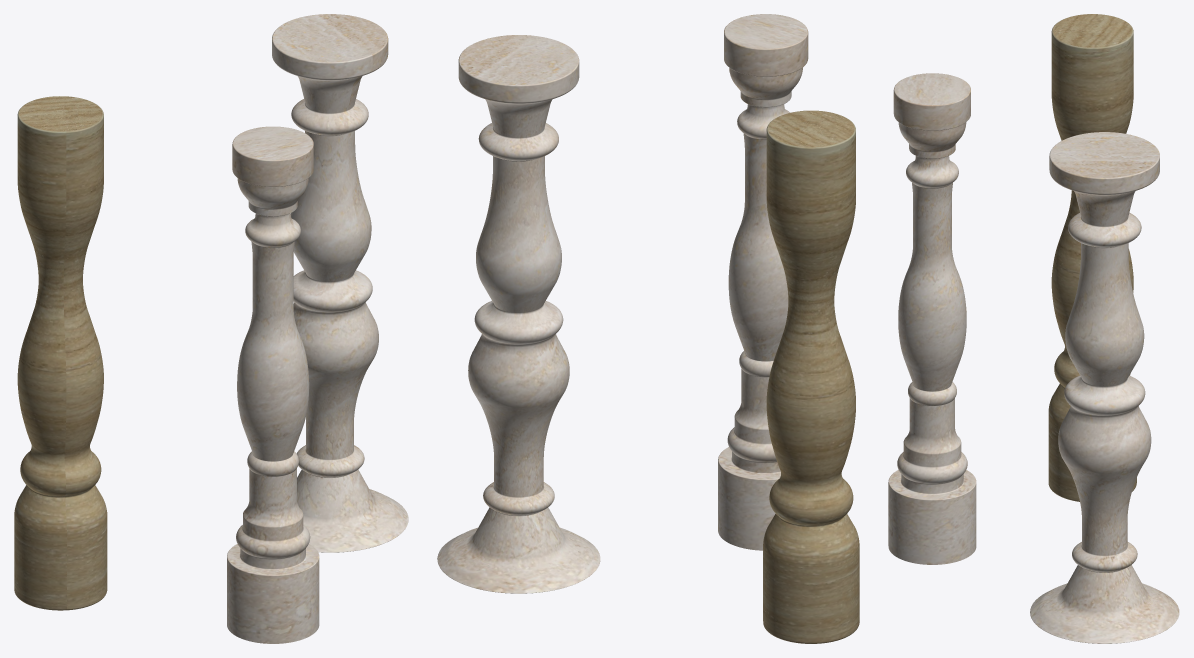
The picture shows the model from 3 angles, left to right: view 1: azimuth 30°, elevation 25°; view 2: azimuth 150°, elevation 25°; view 3: azimuth 270°, elevation 25°; orthographic projection. The views are drawn at different scales.
Parts seen in each view (by area): view 1: Cylinder, Banister_TRV2, Banister_TRV; view 2: Banister_TRV2, Cylinder, Banister_TRV; view 3: Banister_TRV2, Banister_TRV, Cylinder.
Boxes of the visible parts, bbox=[...] form: Cylinder: bbox=[14, 96, 107, 610]; Banister_TRV2: bbox=[272, 14, 408, 552]; Banister_TRV: bbox=[227, 126, 319, 643]; Banister_TRV2: bbox=[437, 35, 600, 593]; Cylinder: bbox=[763, 110, 859, 643]; Banister_TRV: bbox=[718, 14, 808, 550]; Banister_TRV2: bbox=[1030, 132, 1179, 643]; Banister_TRV: bbox=[888, 73, 976, 564]; Cylinder: bbox=[1048, 14, 1136, 501].
Size of the model in its own units: 559 by 673 by 386.
Materials: 2 (2 with a texture image).
